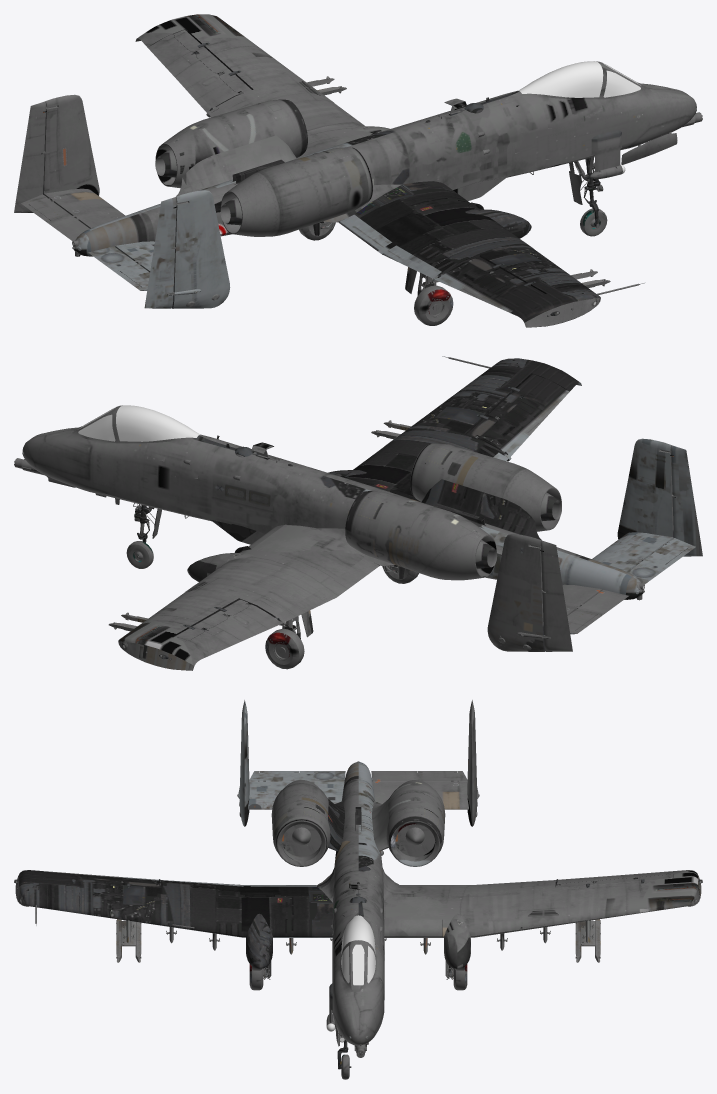
3 views of the same model, one above another, from view 1: azimuth 30°, elevation 25°; view 2: azimuth 150°, elevation 25°; view 3: azimuth 270°, elevation 25° (orthographic). The views are drawn at different scales.
Parts seen in each view (by area): view 1: A-10-airframe, A-10-landingOn, A-10-canopy; view 2: A-10-airframe, A-10-landingOn, A-10-canopy; view 3: A-10-airframe, A-10-canopy, A-10-landingOn.
Boxes of the visible parts, left/top/right/bottom form: A-10-airframe: left=14, top=14, right=702, bottom=327; A-10-landingOn: left=299, top=131, right=677, bottom=325; A-10-canopy: left=518, top=61, right=640, bottom=97; A-10-airframe: left=14, top=356, right=702, bottom=670; A-10-landingOn: left=126, top=503, right=418, bottom=669; A-10-canopy: left=78, top=405, right=200, bottom=441; A-10-airframe: left=14, top=700, right=702, bottom=1057; A-10-canopy: left=341, top=915, right=375, bottom=985; A-10-landingOn: left=249, top=961, right=467, bottom=1079.
Bounding box in the file's own units: 16218 × 4867 × 17621.
